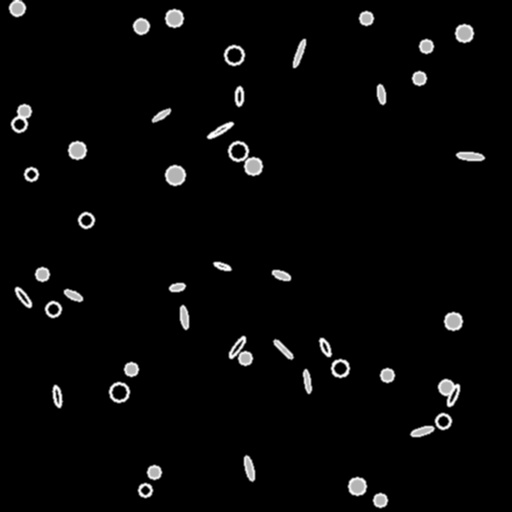pseudomonas: (227, 335, 247, 359), (207, 121, 233, 139), (273, 339, 293, 359), (14, 286, 32, 308), (292, 39, 306, 67), (445, 384, 461, 406), (243, 456, 255, 480), (151, 108, 171, 122), (318, 337, 332, 357), (271, 268, 291, 282), (411, 425, 433, 437), (64, 288, 82, 302), (179, 306, 189, 328), (52, 385, 62, 407), (457, 152, 483, 160), (213, 261, 231, 271), (303, 370, 311, 392), (377, 84, 385, 104), (235, 86, 243, 106), (169, 283, 185, 291)
synechocystis: (225, 46, 243, 64), (110, 383, 128, 401), (229, 142, 247, 160), (166, 166, 184, 184), (166, 10, 182, 26), (332, 360, 348, 376), (69, 142, 85, 158), (445, 313, 461, 329), (456, 25, 472, 41), (245, 158, 261, 174), (349, 478, 365, 494), (10, 1, 24, 15), (436, 414, 450, 428), (12, 117, 26, 131), (134, 19, 148, 33), (79, 213, 93, 227), (439, 380, 453, 394), (46, 302, 60, 316), (148, 466, 160, 478), (25, 168, 37, 180), (420, 40, 432, 52), (36, 268, 48, 280), (18, 105, 30, 117), (381, 369, 393, 381), (139, 484, 151, 496), (125, 363, 137, 375), (374, 494, 386, 506), (360, 12, 372, 24), (413, 72, 425, 84), (239, 352, 251, 364)
